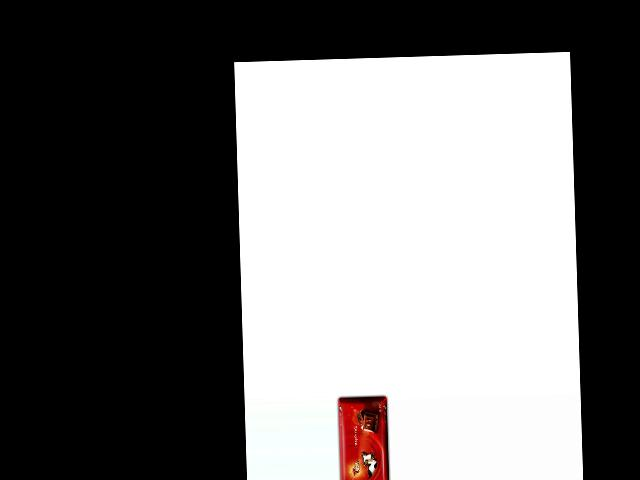chocolate: (337, 394, 393, 480)
